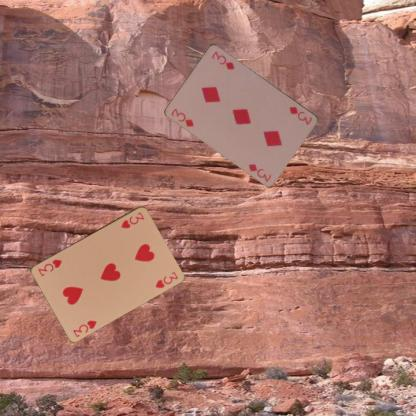3d: (286, 103, 314, 126), (169, 105, 195, 128)
3h: (118, 209, 146, 230), (71, 317, 98, 338)
